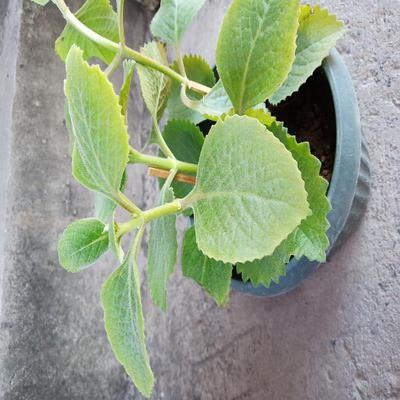Oregano: (48, 4, 346, 270)
